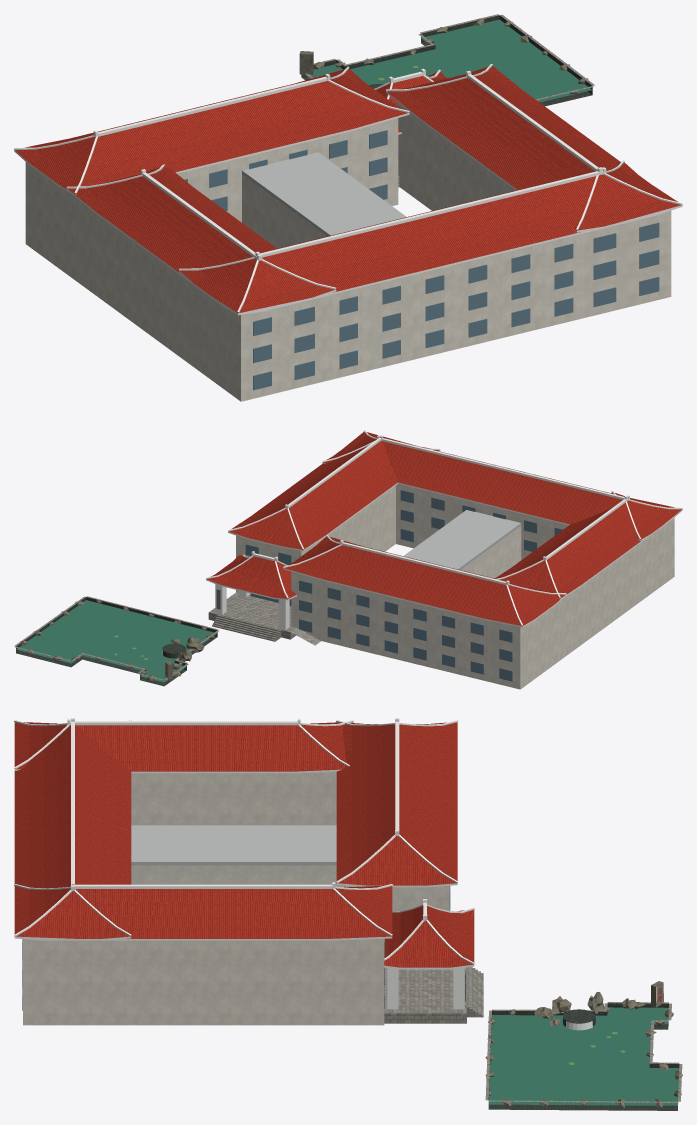
Rendered from d03_yanchi_arts_lod0.glb.
3 renders of one model, top to bottom at view 1: azimuth 30°, elevation 25°; view 2: azimuth 150°, elevation 25°; view 3: azimuth 270°, elevation 25°, orthographic. The views are drawn at different scales.
Parts seen in each view (by area): view 1: arts_education_center, yanchi_ink_pond; view 2: arts_education_center, yanchi_ink_pond; view 3: arts_education_center, yanchi_ink_pond.
Part boxes in pixels (left/top/right/bottom): arts_education_center: left=14, top=64, right=682, bottom=401; yanchi_ink_pond: left=299, top=14, right=594, bottom=106; arts_education_center: left=206, top=430, right=682, bottom=689; yanchi_ink_pond: left=14, top=596, right=219, bottom=686; arts_education_center: left=14, top=718, right=483, bottom=1025; yanchi_ink_pond: left=485, top=981, right=682, bottom=1110.
Bounding box in the file's own units: 79.13 × 16.32 × 76.85.
13 materials, 6 textured.
